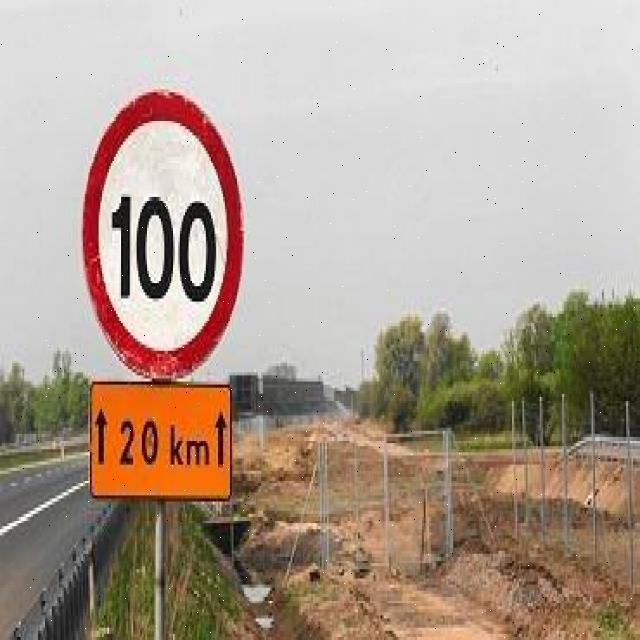speed limit 100: (80, 90, 248, 382)
